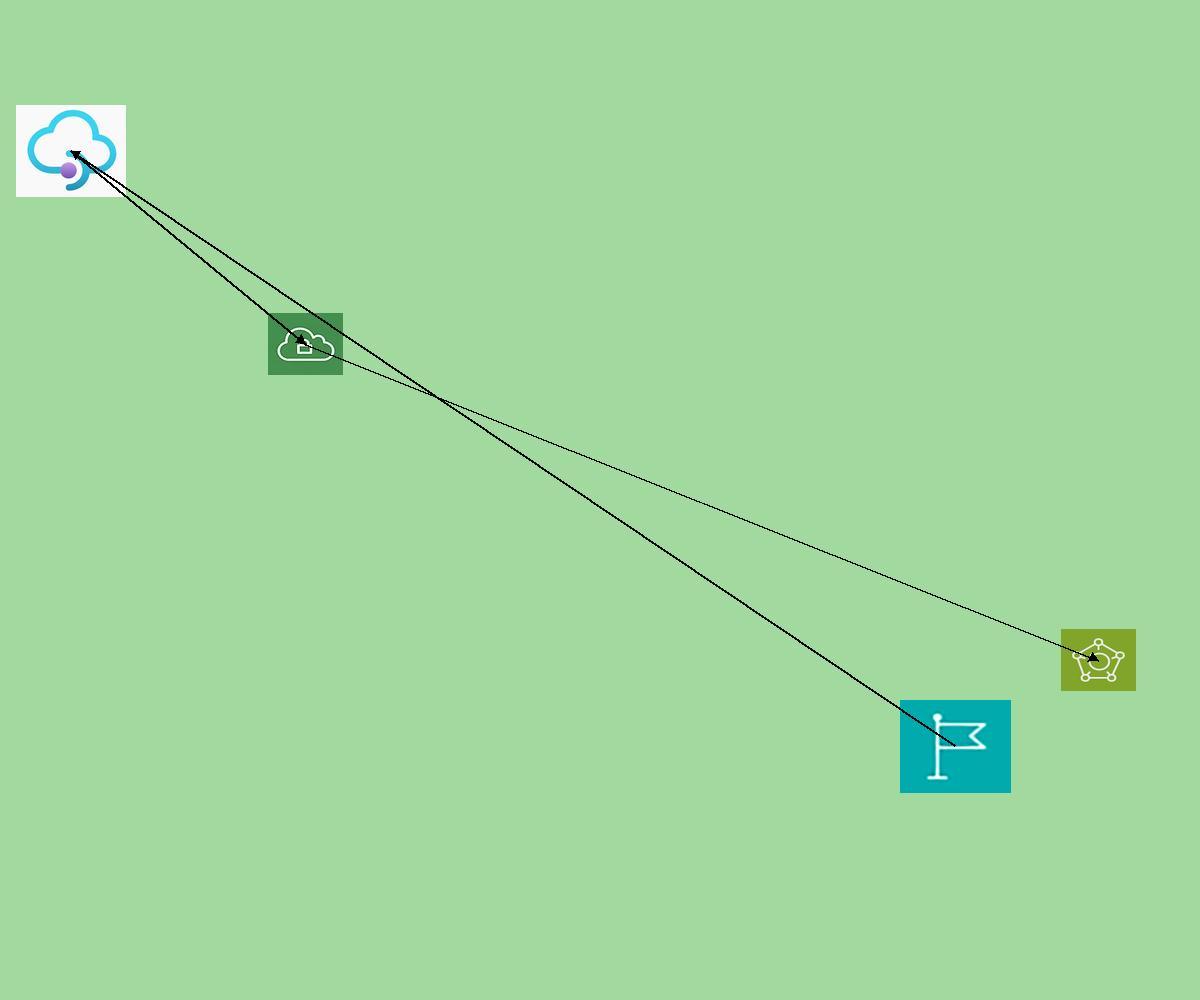AWS-Backup: (1061, 629, 1136, 691)
AWS-Private_vpc: (268, 313, 343, 375)
AWS-Region: (900, 700, 1011, 793)
Azure_api_gateway: (16, 105, 126, 197)
